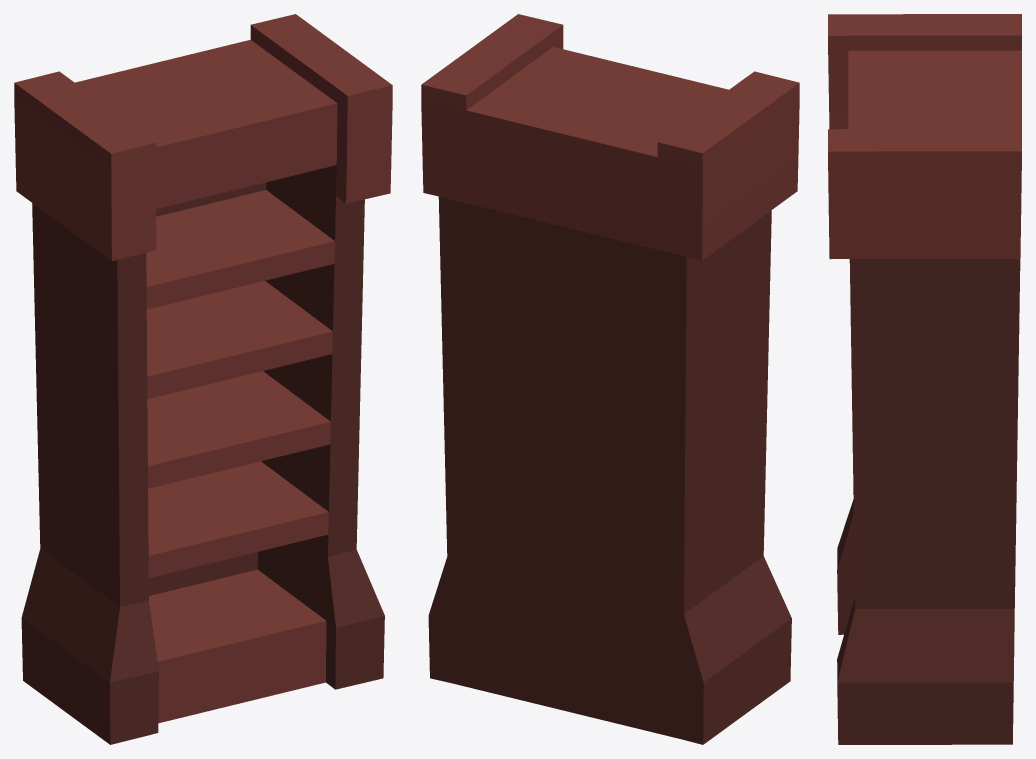
File: quaternius-book-case.glb
3 renders of one model, left to right at view 1: azimuth 30°, elevation 25°; view 2: azimuth 150°, elevation 25°; view 3: azimuth 270°, elevation 25°, orthographic.
Parts seen in each view (by area): view 1: BookCase; view 2: BookCase; view 3: BookCase.
Part boxes in pixels (bbox=[...]): BookCase: bbox=[14, 14, 392, 744]; BookCase: bbox=[421, 14, 799, 744]; BookCase: bbox=[828, 14, 1021, 744].
Bounding box in the file's own units: 0.7577 × 1.53 × 0.4519.
